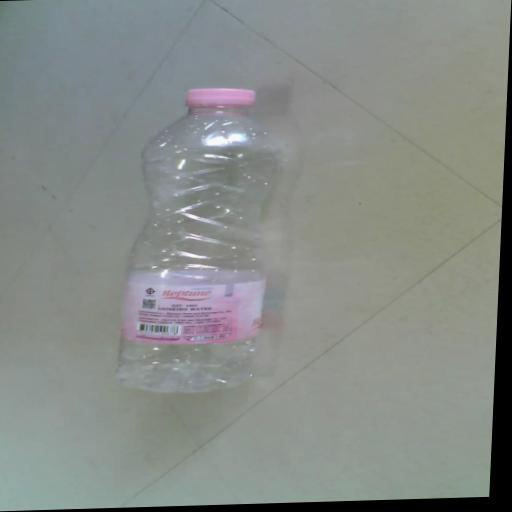bottle: (83, 26, 330, 415)
